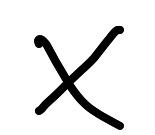mult: (34, 25, 125, 131)
